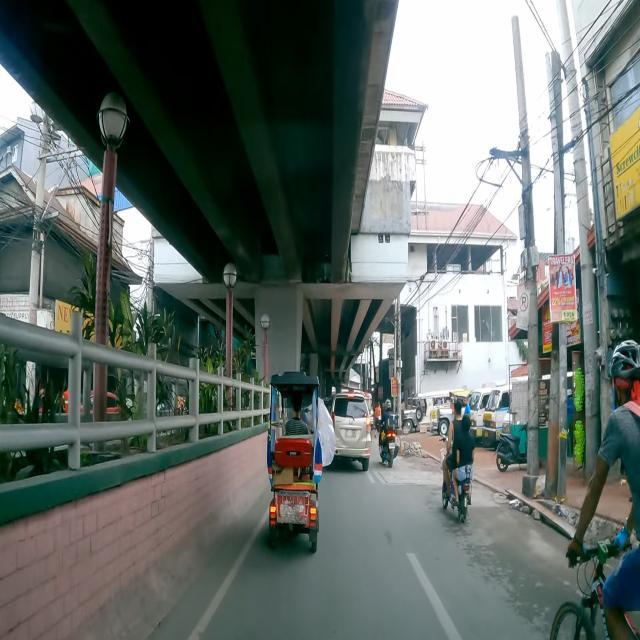bike: (549, 339, 640, 640)
car: (330, 392, 371, 470)
jeepney: (401, 386, 468, 434), (430, 390, 476, 434)
motorcycle: (440, 398, 474, 528), (492, 419, 530, 472), (378, 397, 400, 470)
tricycle: (266, 364, 320, 557)
truck: (482, 376, 530, 450), (462, 378, 512, 441)
